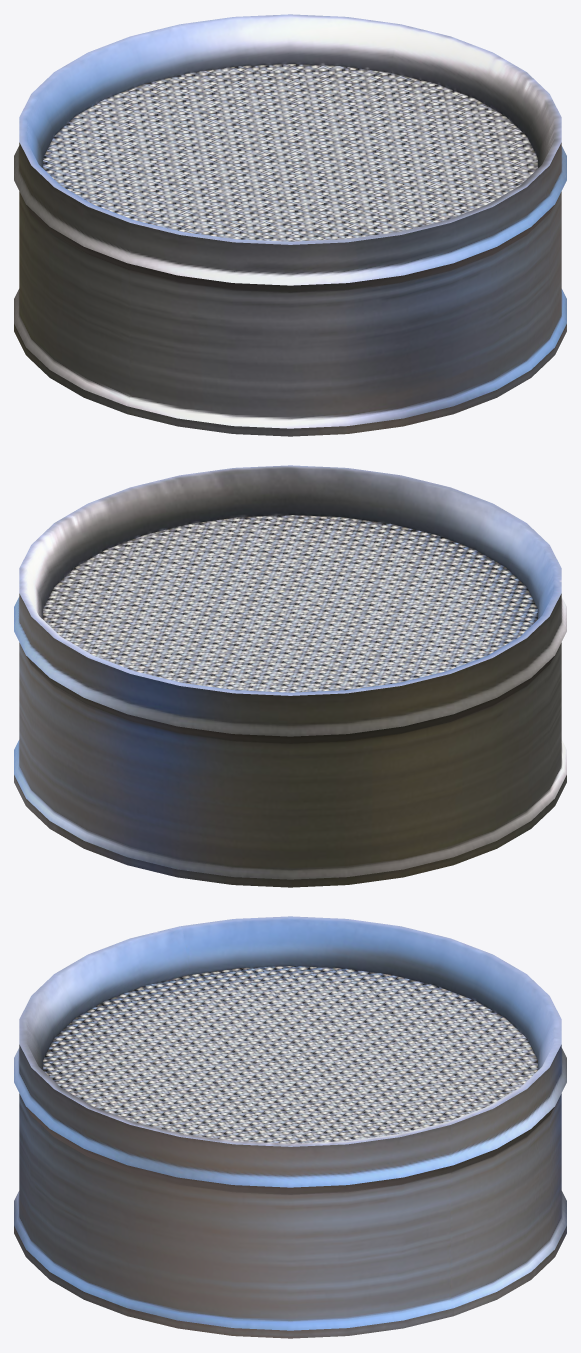
File: sieve_fine.glb
3 views of the same model, one above another, from view 1: azimuth 30°, elevation 25°; view 2: azimuth 150°, elevation 25°; view 3: azimuth 270°, elevation 25° (orthographic).
Visible parts, largest first — view 1: sieve_fine; view 2: sieve_fine; view 3: sieve_fine.
Part boxes in pixels (x1,y1,x2,y2): sieve_fine: (14,14,566,436); sieve_fine: (14,465,566,887); sieve_fine: (14,916,566,1338).
Bounding box in the file's own units: 0.1197 × 0.045 × 0.1191.
1 material, 1 textured.
